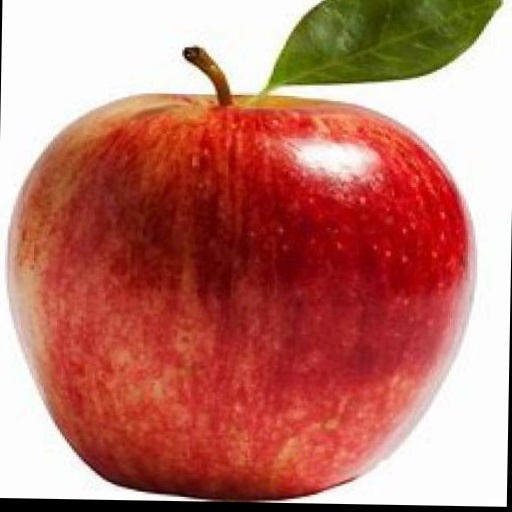fruit: (9, 50, 473, 499)
